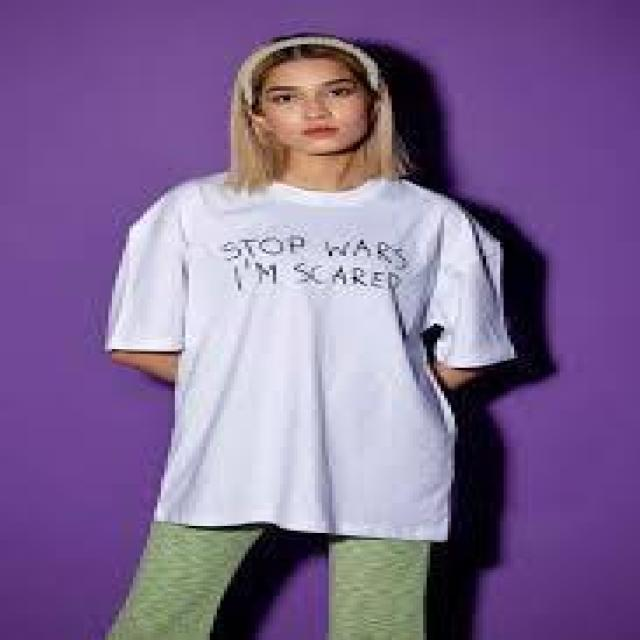Tshirt: (100, 171, 519, 546)
